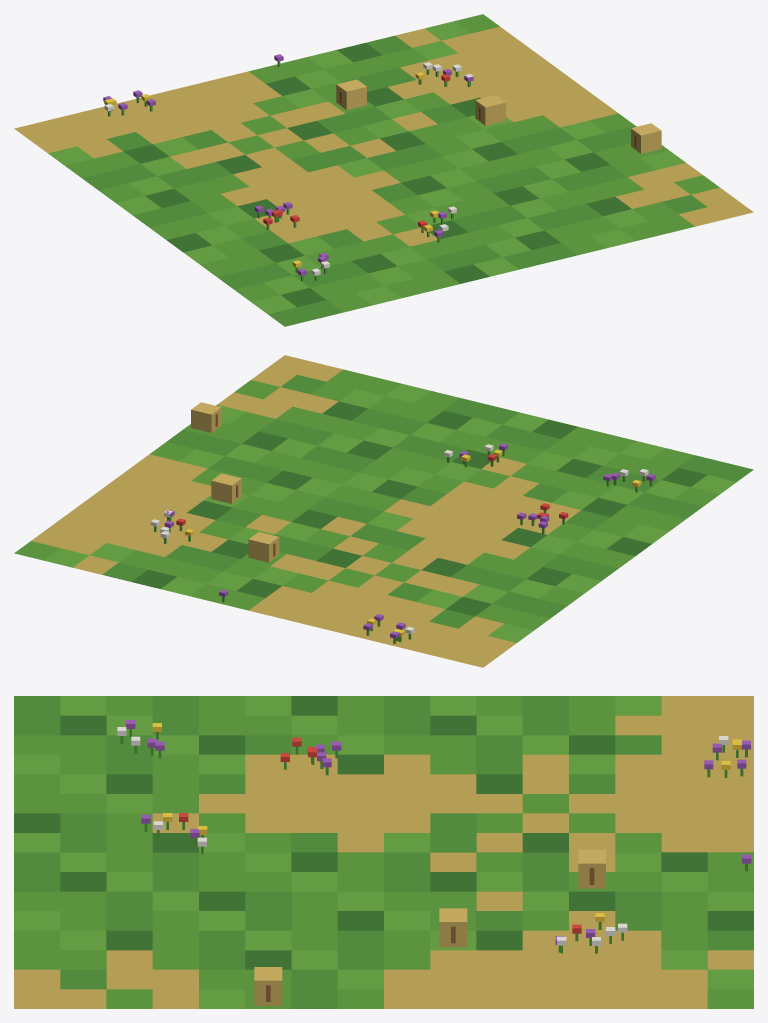
File: chunk_0_11.glb
3 renders of one model, top to bottom at view 1: azimuth 30°, elevation 25°; view 2: azimuth 150°, elevation 25°; view 3: azimuth 270°, elevation 25°, orthographic. The views are drawn at different scales.
Parts seen in each view (by area): view 1: chunk_0_11; view 2: chunk_0_11; view 3: chunk_0_11.
Boxes of the visible parts, box(x1,y1,x2,y2) form: chunk_0_11: box(14, 14, 753, 326); chunk_0_11: box(14, 355, 753, 667); chunk_0_11: box(14, 696, 753, 1008).
Size of the model in its own units: 16 by 0.6 by 16.
